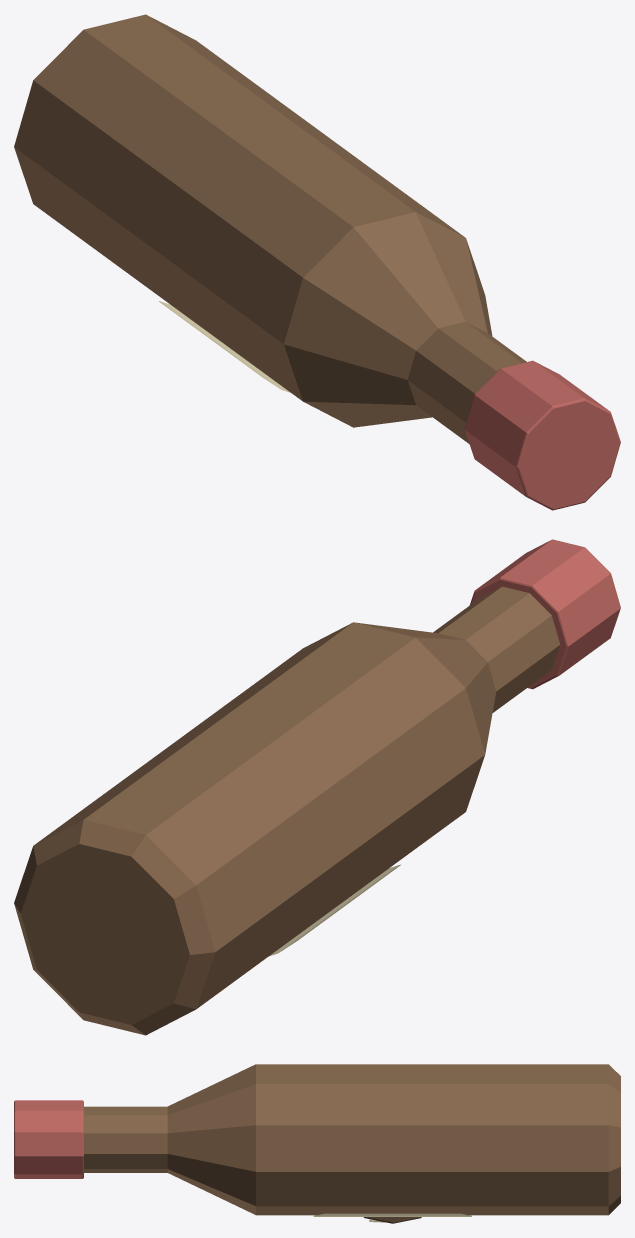
The model's file is soy_sauce.glb.
3 views of the same model, one above another, from view 1: azimuth 30°, elevation 25°; view 2: azimuth 150°, elevation 25°; view 3: azimuth 270°, elevation 25° (orthographic). The views are drawn at different scales.
Visible parts, largest first — view 1: soy_sauce; view 2: soy_sauce; view 3: soy_sauce.
Boxes of the visible parts, <box> form: soy_sauce: <box>14,14,620,510</box>; soy_sauce: <box>14,539,620,1035</box>; soy_sauce: <box>14,1064,620,1223</box>.
Size of the model in its own units: 0.05 by 0.0511 by 0.1995.
